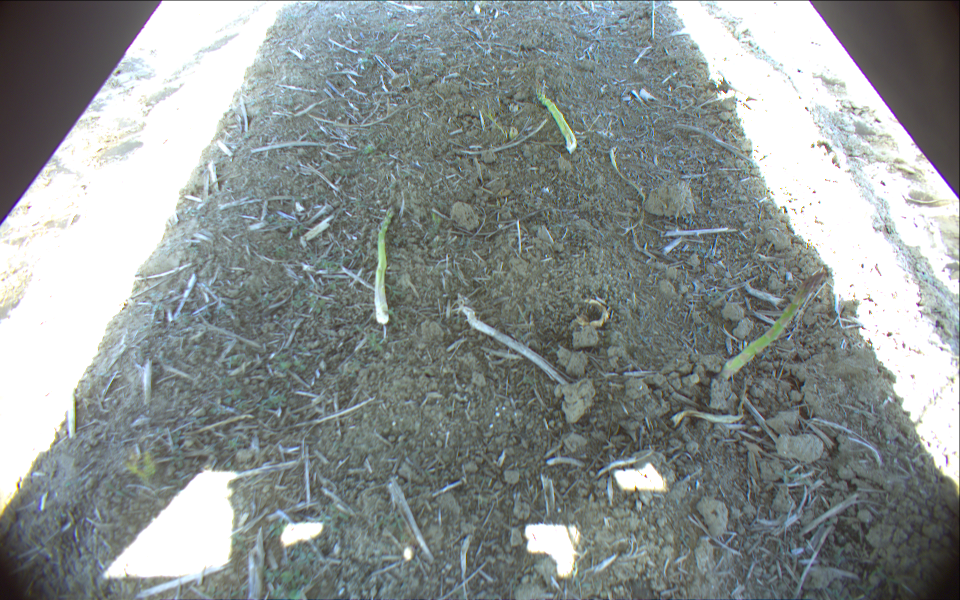aspa: (723, 271, 826, 377), (373, 206, 396, 326), (538, 92, 576, 151)
